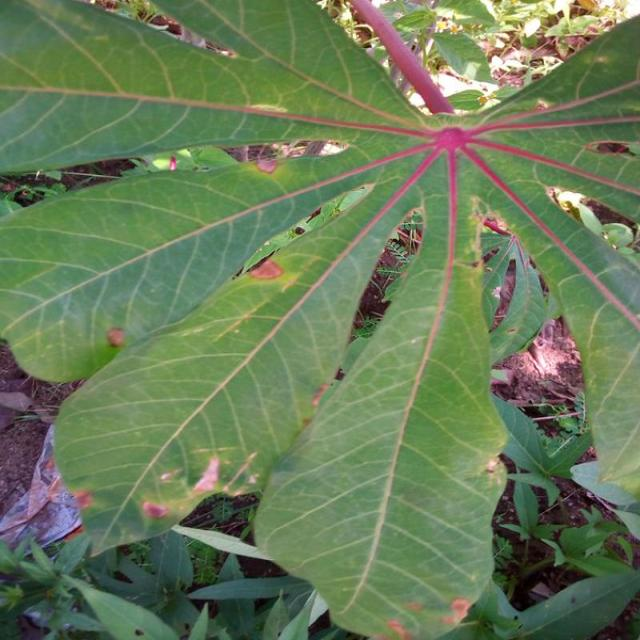cassava leaf: (1, 0, 638, 638), (51, 152, 423, 559), (252, 254, 510, 638)
